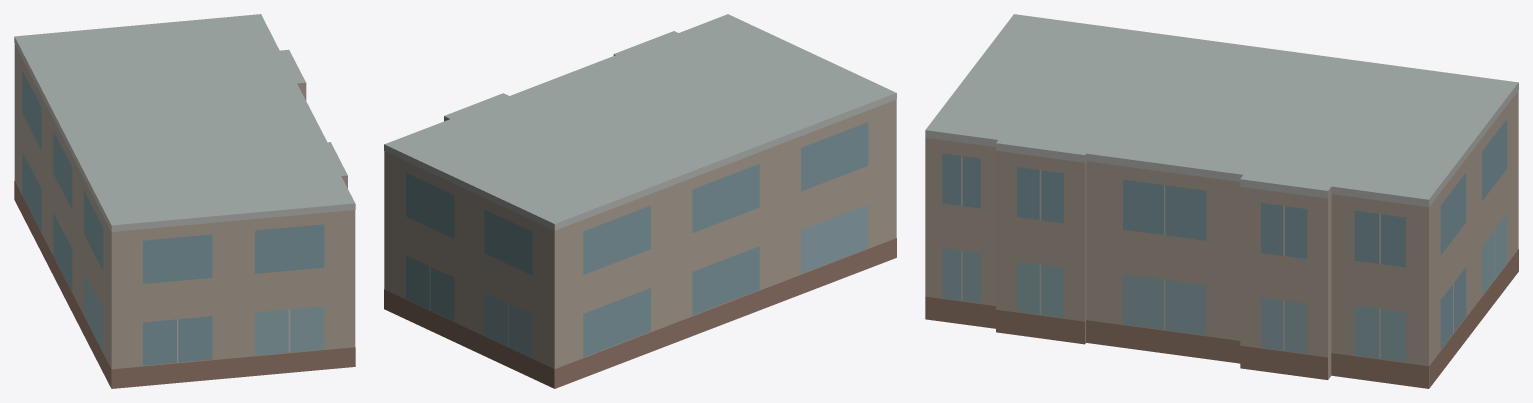
The model's file is survey-upis-32800097.glb.
3 renders of one model, left to right at view 1: azimuth 30°, elevation 25°; view 2: azimuth 150°, elevation 25°; view 3: azimuth 270°, elevation 25°, orthographic. The views are drawn at different scales.
Parts seen in each view (by area): view 1: survey-upis-32800097.tmp; view 2: survey-upis-32800097.tmp; view 3: survey-upis-32800097.tmp.
Boxes of the visible parts, <box> form: survey-upis-32800097.tmp: <box>14,14,355,388</box>; survey-upis-32800097.tmp: <box>384,14,896,388</box>; survey-upis-32800097.tmp: <box>925,14,1518,388</box>.
Bounding box in the file's own units: 12.86 × 6.1 × 17.36.
